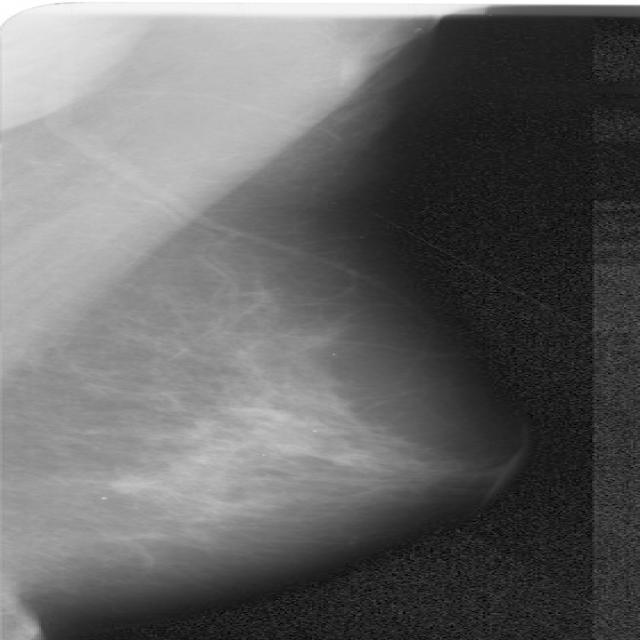tumour: (102, 474, 136, 492)
